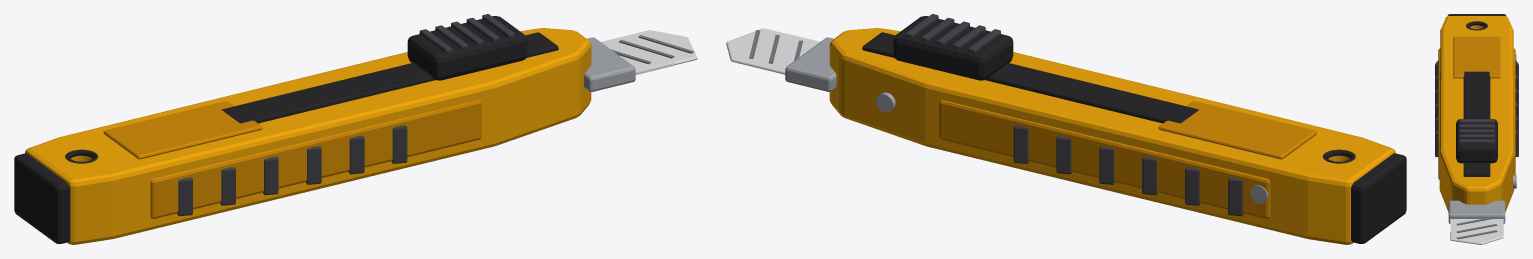
The model's file is knife.glb.
3 views of the same model, side by side, from view 1: azimuth 30°, elevation 25°; view 2: azimuth 150°, elevation 25°; view 3: azimuth 270°, elevation 25° (orthographic). The views are drawn at different scales.
Visible parts, largest first — view 1: PlasticBody, GripPanel_R, SliderSlot, TopInset, ThumbSlider, TailCap, SegmentedBlade, MetalGuide, GripRib_R5, GripRib_R4, GripRib_R3, GripRib_R0 (+2 smaller); view 2: PlasticBody, GripPanel_L, SliderSlot, TopInset, ThumbSlider, TailCap, SegmentedBlade, MetalGuide, GripRib_L5, GripRib_L4, GripRib_L3, GripRib_L0 (+2 smaller); view 3: PlasticBody, TopInset, SliderSlot, ThumbSlider, SegmentedBlade, MetalGuide, GripPanel_R, GripPanel_L, SliderRib0, SliderRib1, SliderRib2, SliderRib3 (+10 smaller).
Boxes of the visible parts, x1,y1,x2,y2 form: PlasticBody: [25, 28, 591, 244]; GripPanel_R: [150, 100, 481, 218]; SliderSlot: [222, 32, 558, 123]; TopInset: [103, 101, 262, 159]; ThumbSlider: [407, 16, 527, 80]; TailCap: [14, 153, 69, 243]; SegmentedBlade: [601, 30, 697, 73]; MetalGuide: [584, 37, 635, 91]; GripRib_R5: [391, 125, 407, 163]; GripRib_R4: [349, 135, 364, 174]; GripRib_R3: [306, 146, 321, 184]; GripRib_R0: [177, 177, 192, 216]; PlasticBody: [829, 28, 1395, 244]; GripPanel_L: [939, 100, 1270, 218]; SliderSlot: [862, 32, 1198, 123]; TopInset: [1158, 101, 1317, 159]; ThumbSlider: [893, 16, 1013, 80]; TailCap: [1351, 153, 1406, 243]; SegmentedBlade: [726, 28, 819, 74]; MetalGuide: [785, 37, 836, 91]; GripRib_L5: [1013, 125, 1029, 163]; GripRib_L4: [1056, 135, 1071, 174]; GripRib_L3: [1099, 146, 1114, 184]; GripRib_L0: [1228, 177, 1243, 216]; PlasticBody: [1439, 16, 1514, 212]; TopInset: [1453, 36, 1500, 78]; SliderSlot: [1463, 71, 1490, 176]; ThumbSlider: [1456, 119, 1497, 163]; SegmentedBlade: [1450, 219, 1503, 244]; MetalGuide: [1448, 200, 1505, 223]; GripPanel_R: [1438, 48, 1440, 179]; GripPanel_L: [1513, 48, 1515, 175]; SliderRib0: [1459, 119, 1494, 123]; SliderRib1: [1459, 124, 1494, 128]; SliderRib2: [1459, 129, 1494, 133]; SliderRib3: [1459, 134, 1494, 138].
Size of the model in its own units: 0.1684 by 0.0236 by 0.0282.
